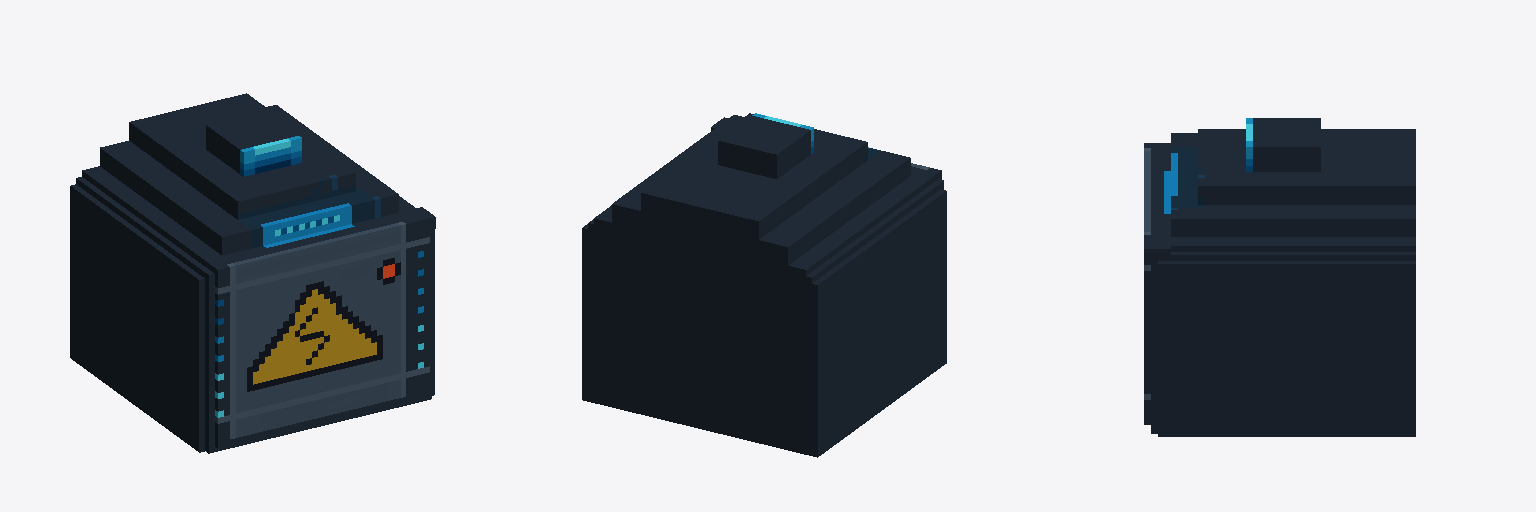
3 renders of one model, left to right at view 1: azimuth 30°, elevation 25°; view 2: azimuth 150°, elevation 25°; view 3: azimuth 270°, elevation 25°, orthographic.
Visible parts, largest first — view 1: object 1; view 2: object 1; view 3: object 1.
Part boxes in pixels (x1,y1,x2,y2): object 1: (70,93,435,453); object 1: (582,113,946,457); object 1: (1144,118,1415,436).
Size of the model in its own units: 4 by 4 by 4.
1 materials, 1 textured.